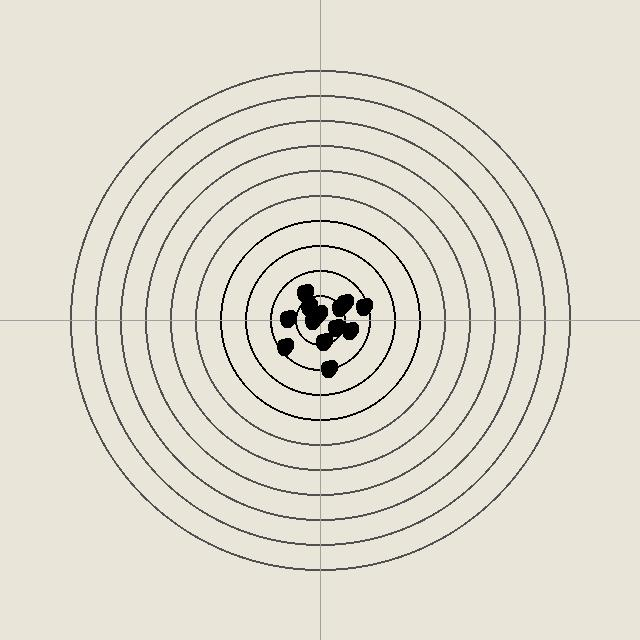good_group: (339, 320, 359, 340), (353, 296, 373, 316), (294, 282, 314, 302), (298, 296, 318, 316), (274, 336, 294, 356), (277, 308, 297, 328), (325, 317, 345, 337), (329, 297, 349, 317), (313, 331, 333, 351), (302, 310, 322, 330), (318, 358, 338, 378), (308, 303, 328, 323), (334, 292, 354, 312)
